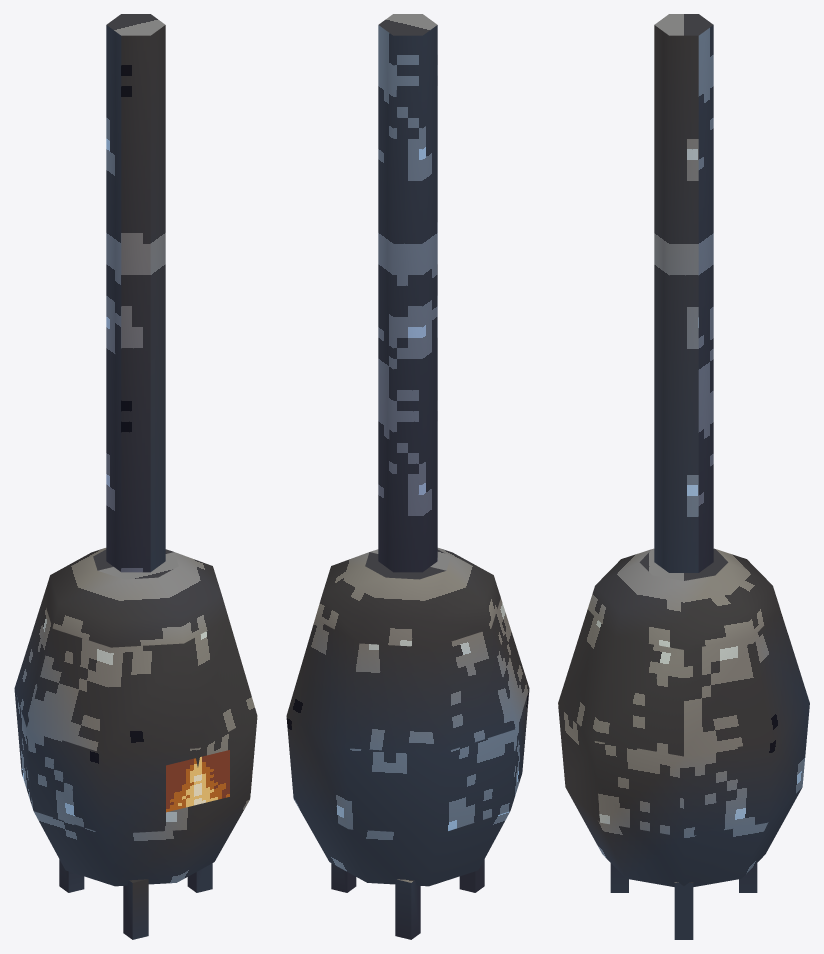
File: wprop.stove.glb
3 views of the same model, side by side, from view 1: azimuth 30°, elevation 25°; view 2: azimuth 150°, elevation 25°; view 3: azimuth 270°, elevation 25° (orthographic).
Visible parts, largest first — view 1: kit_body, kit_pipe, kit_card_grate, kit_legs; view 2: kit_body, kit_pipe, kit_legs; view 3: kit_body, kit_pipe, kit_legs.
Part boxes in pixels (x1,y1,x2,y2): kit_body: [14, 548, 257, 886]; kit_pipe: [106, 14, 165, 572]; kit_card_grate: [166, 750, 229, 812]; kit_legs: [59, 859, 212, 939]; kit_body: [286, 548, 529, 886]; kit_pipe: [378, 14, 437, 572]; kit_legs: [331, 859, 484, 939]; kit_body: [558, 548, 809, 886]; kit_pipe: [654, 14, 713, 572]; kit_legs: [610, 863, 757, 939].
Bounding box in the file's own units: 0.68 × 2.62 × 0.68.
2 materials, 2 textured.
